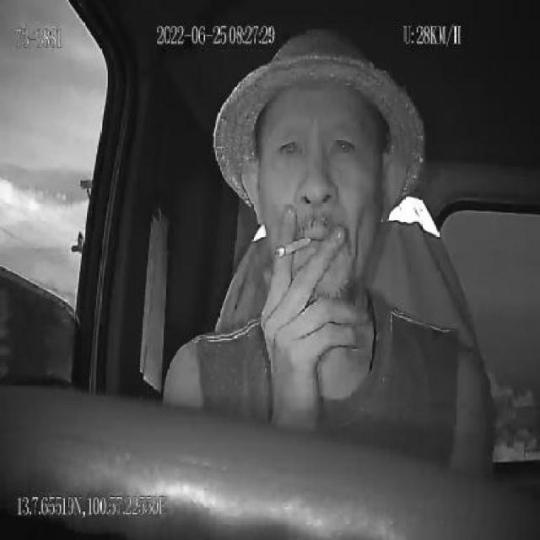smoking: (272, 232, 312, 260)
